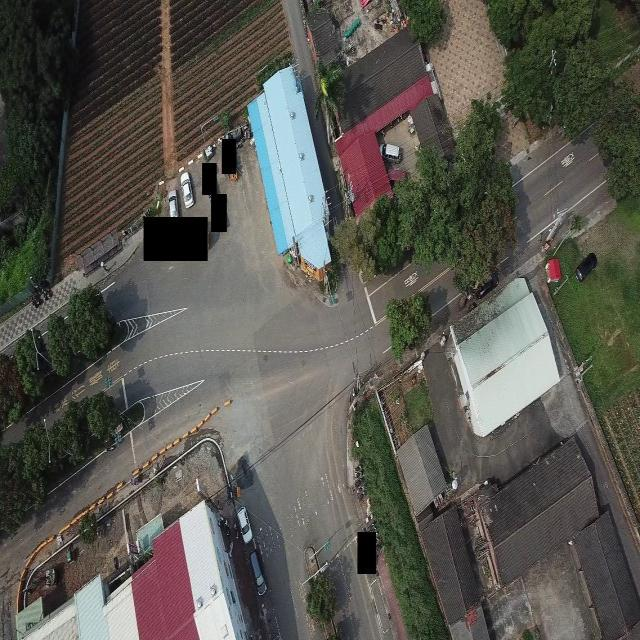car: (574, 240, 605, 288), (248, 552, 272, 595), (177, 171, 200, 212), (233, 505, 255, 545), (383, 138, 403, 171), (164, 188, 180, 222)
